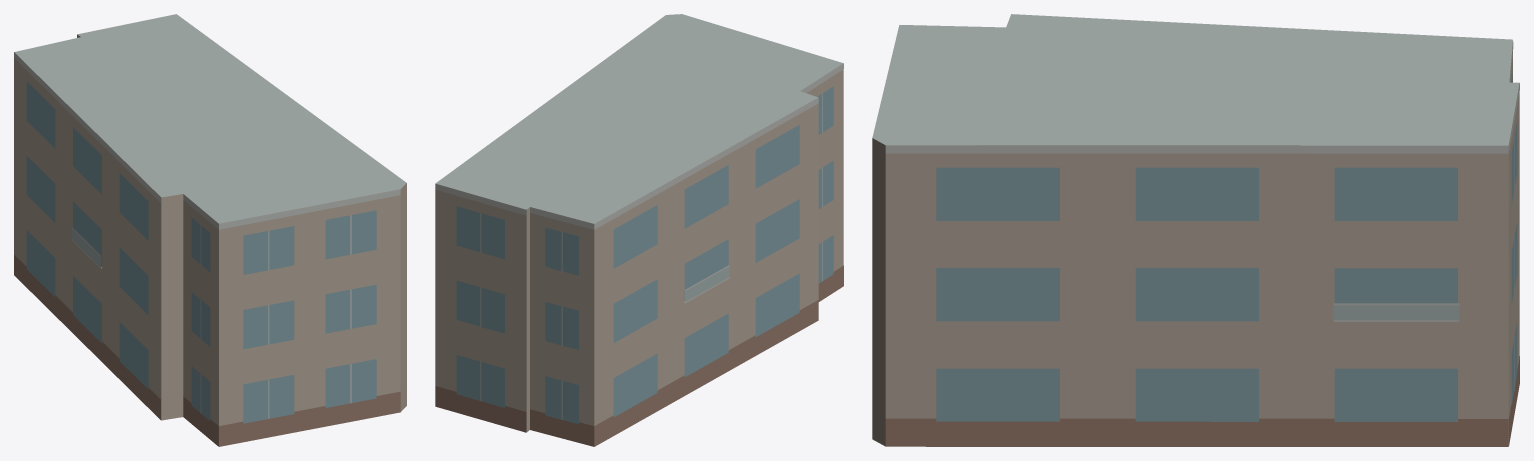
The model's file is survey-upis-32592427.glb.
3 renders of one model, left to right at view 1: azimuth 30°, elevation 25°; view 2: azimuth 150°, elevation 25°; view 3: azimuth 270°, elevation 25°, orthographic. The views are drawn at different scales.
Visible parts, largest first — view 1: survey-upis-32592427.tmp; view 2: survey-upis-32592427.tmp; view 3: survey-upis-32592427.tmp.
Part boxes in pixels (x1,y1,x2,y2): survey-upis-32592427.tmp: (14,14,406,446); survey-upis-32592427.tmp: (435,14,843,446); survey-upis-32592427.tmp: (872,14,1519,446).
Size of the model in its own units: 8.61 by 9.15 by 17.83.
